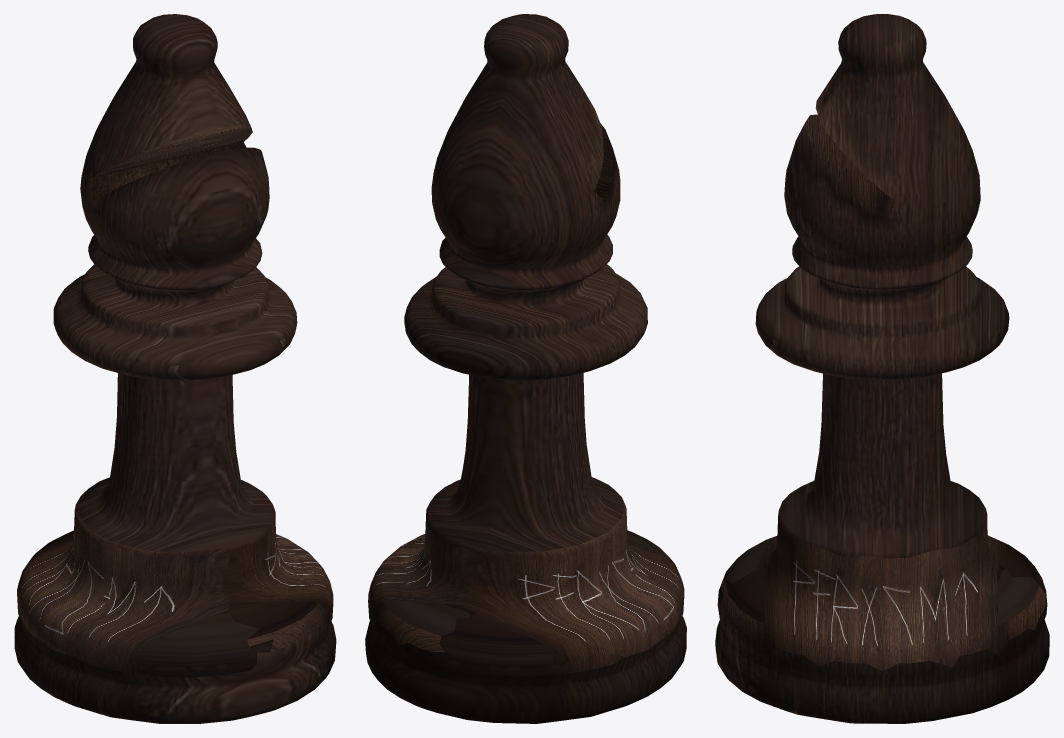
Rendered from Alfil1.fbx.
3 views of the same model, side by side, from view 1: azimuth 30°, elevation 25°; view 2: azimuth 150°, elevation 25°; view 3: azimuth 270°, elevation 25° (orthographic).
Parts seen in each view (by area): view 1: Alfil; view 2: Alfil; view 3: Alfil.
Part boxes in pixels (bbox=[...]): Alfil: bbox=[14, 14, 336, 723]; Alfil: bbox=[365, 14, 686, 723]; Alfil: bbox=[715, 14, 1049, 723].
Bounding box in the file's own units: 36.82 × 82.04 × 38.58.
Materials: 2 (2 with a texture image).
